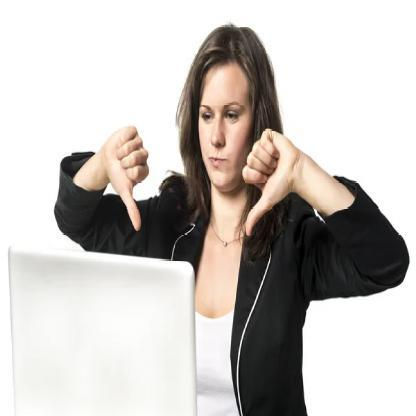thumb_down: (239, 126, 296, 240), (102, 125, 152, 234)
